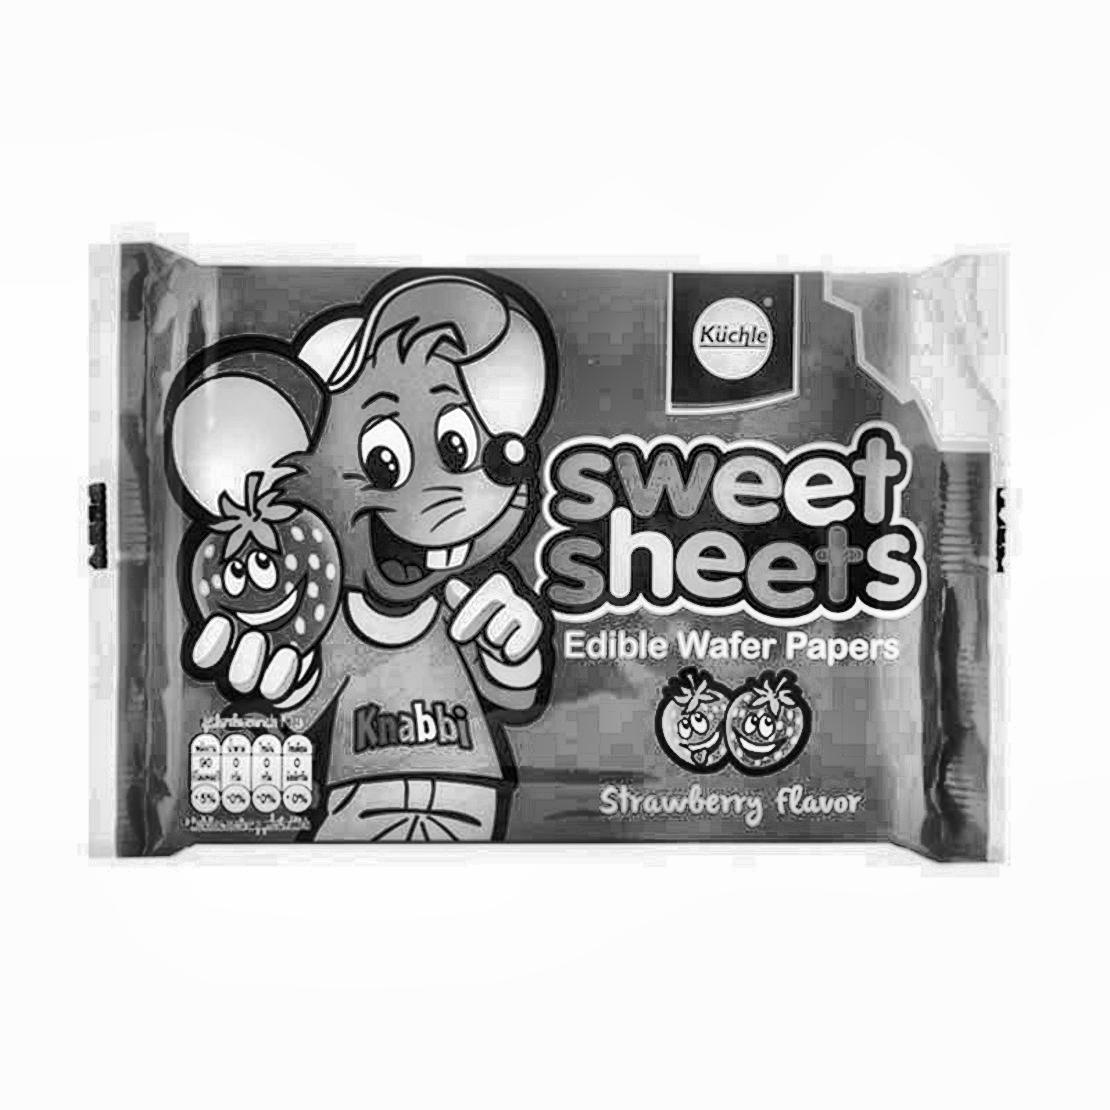snackbag: (58, 163, 1062, 975)
